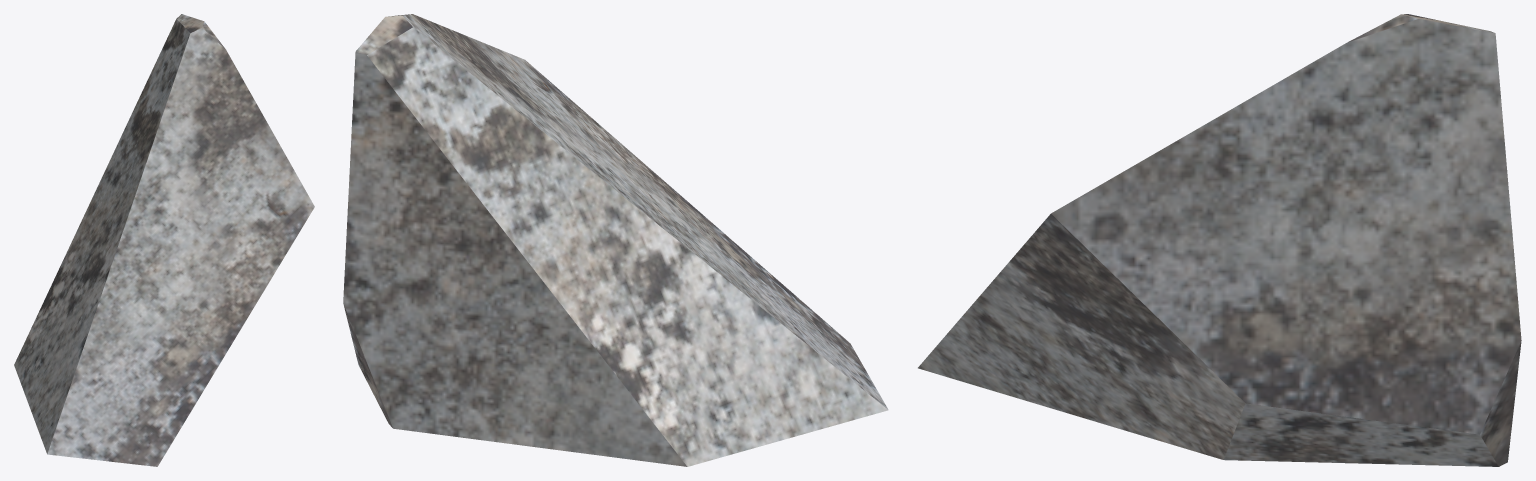
File: Asteroid_Large_001_02_001_03_010.fbx
The picture shows the model from 3 angles, left to right: view 1: azimuth 30°, elevation 25°; view 2: azimuth 150°, elevation 25°; view 3: azimuth 270°, elevation 25°; orthographic projection. The views are drawn at different scales.
Parts seen in each view (by area): view 1: Asteroid_Large_001_02_001_03_010; view 2: Asteroid_Large_001_02_001_03_010; view 3: Asteroid_Large_001_02_001_03_010.
Boxes of the visible parts, x1,y1,x2,y2 form: Asteroid_Large_001_02_001_03_010: (14,14,314,466); Asteroid_Large_001_02_001_03_010: (343,14,888,466); Asteroid_Large_001_02_001_03_010: (918,14,1521,466).
Bounding box in the file's own units: 6.93 × 7.38 × 7.87.
